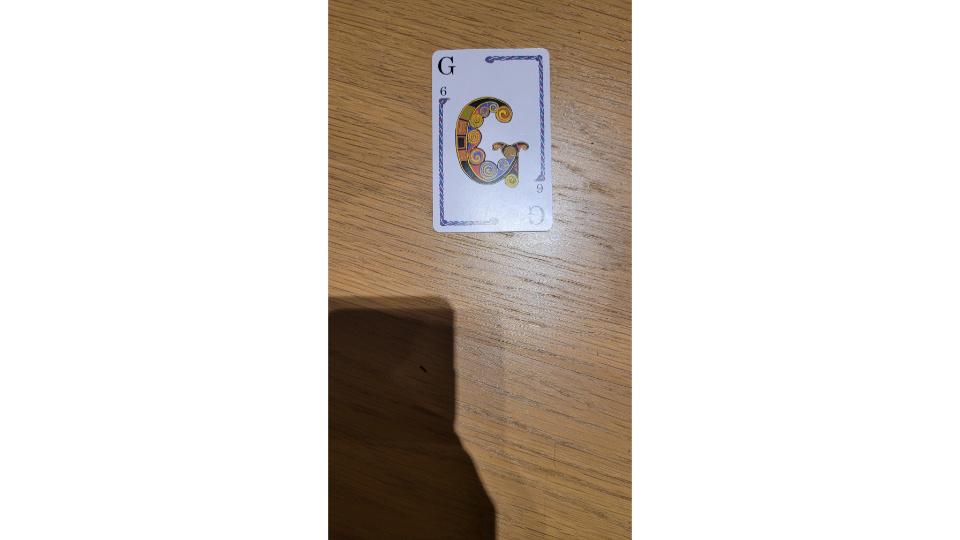G: (428, 44, 556, 237)
